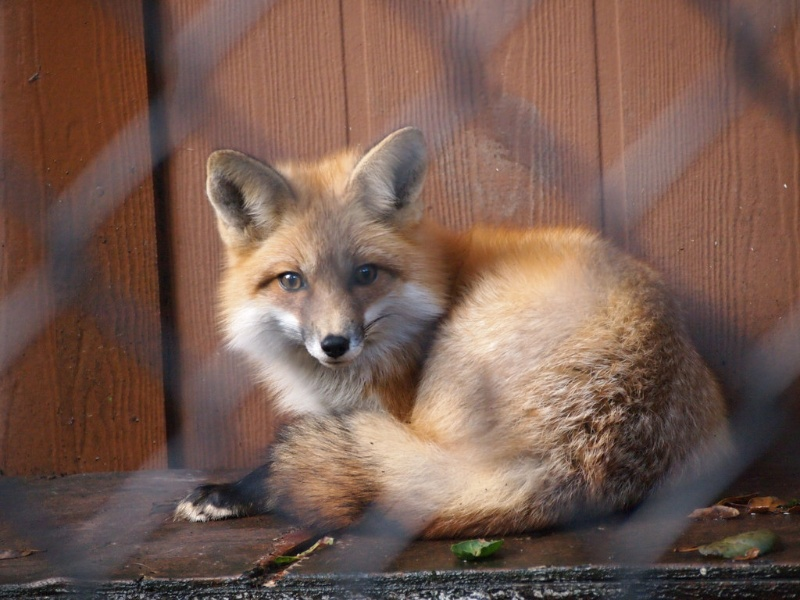fox: (171, 123, 746, 539)
